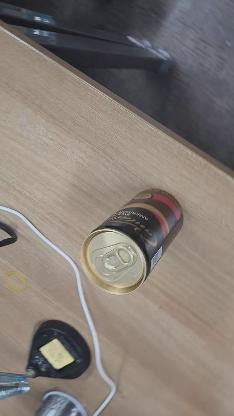Can: (83, 192, 187, 294)
